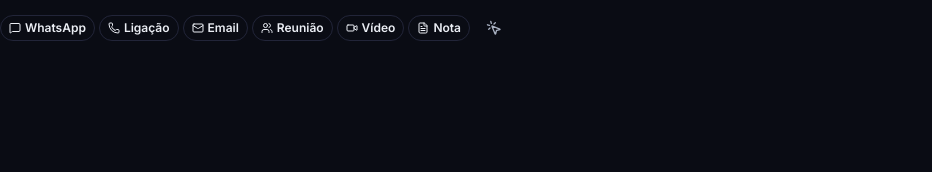
Test case: CanaisQuickFilter › manual mode: clicking a chip does NOT call onChange and shows Apply button
The image size is (932, 172).
Click the button titled "Email": (215, 28) top-left (183, 15), bottom-right (248, 41)
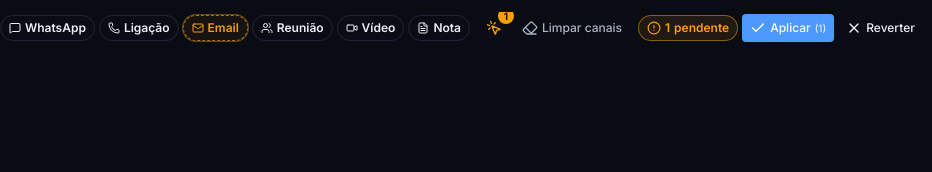
Expected: the button "Aplicar (1)" is shown, top-left (742, 14), bottom-right (834, 42)
